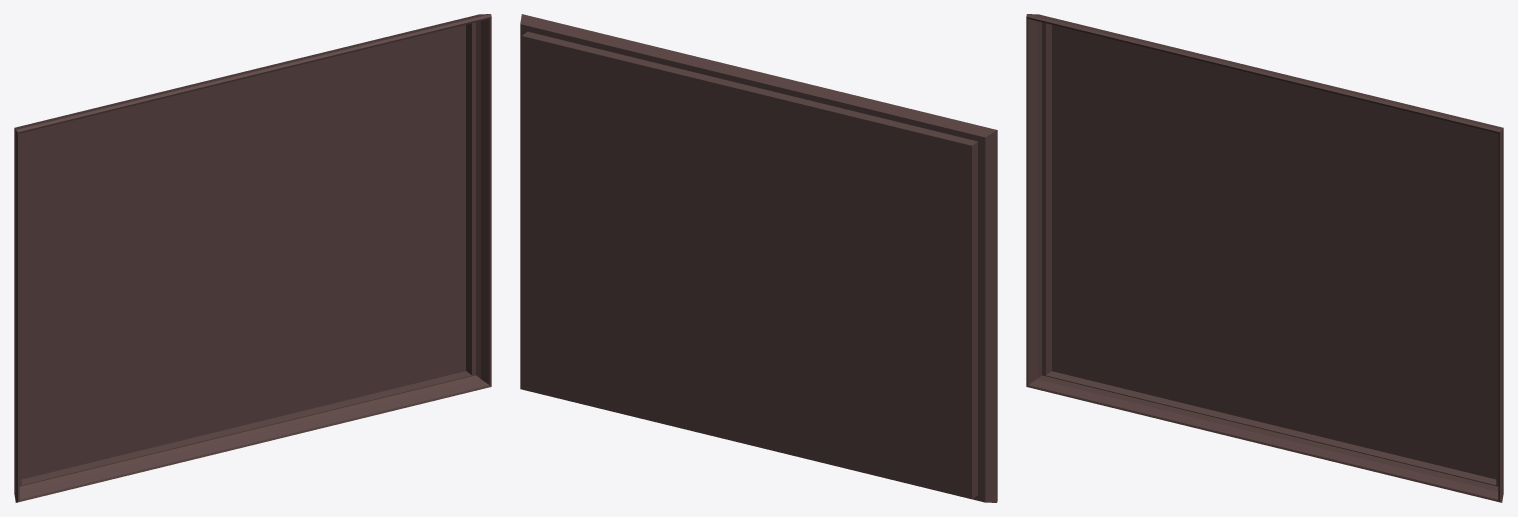
File: painting1.glb
3 renders of one model, left to right at view 1: azimuth 30°, elevation 25°; view 2: azimuth 150°, elevation 25°; view 3: azimuth 330°, elevation 25°, orthographic.
Parts seen in each view (by area): view 1: Picture1; view 2: Picture1; view 3: Picture1.
Boxes of the visible parts, box(x1,y1,x2,y2) form: Picture1: box(14, 14, 491, 502); Picture1: box(520, 14, 997, 502); Picture1: box(1026, 14, 1503, 502).
Size of the model in its own units: 3.17 by 2.37 by 0.162.
1 material, 1 textured.
